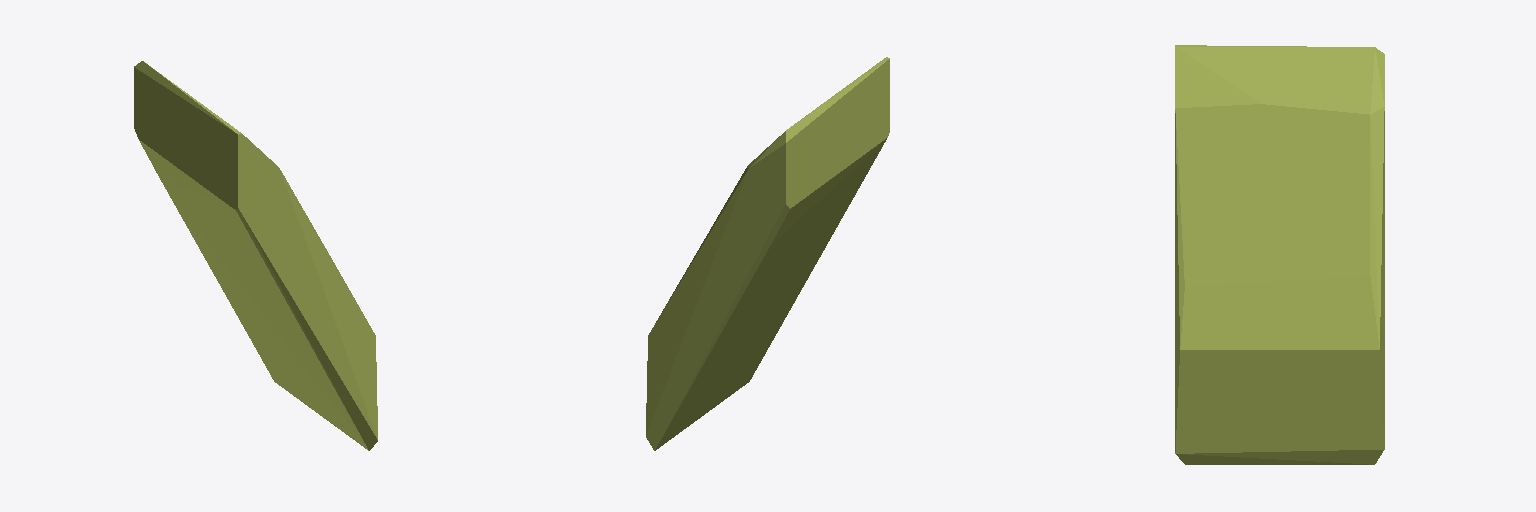
The picture shows the model from 3 angles: view 1: azimuth 30°, elevation 25°; view 2: azimuth 150°, elevation 25°; view 3: azimuth 270°, elevation 25°; orthographic projection.
Visible parts, largest first — view 1: Shape_IndexedFaceSet.002_Shape_IndexedFaceSet.5716; view 2: Shape_IndexedFaceSet.002_Shape_IndexedFaceSet.5716; view 3: Shape_IndexedFaceSet.002_Shape_IndexedFaceSet.5716.
Boxes of the visible parts, x1=… form: Shape_IndexedFaceSet.002_Shape_IndexedFaceSet.5716: x1=134, y1=61, x2=377, y2=450; Shape_IndexedFaceSet.002_Shape_IndexedFaceSet.5716: x1=646, y1=57, x2=889, y2=450; Shape_IndexedFaceSet.002_Shape_IndexedFaceSet.5716: x1=1175, y1=45, x2=1384, y2=464.
Bounding box in the file's own units: 0.0857 × 0.2067 × 0.1109.